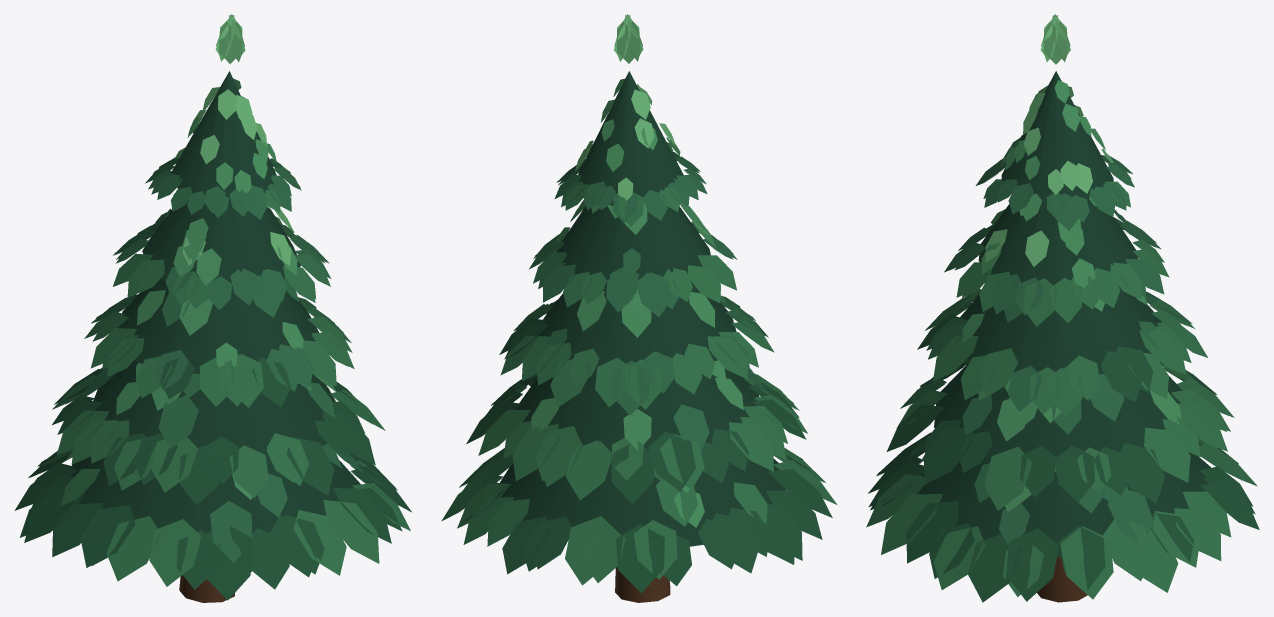
File: TreePine.glb
3 views of the same model, side by side, from view 1: azimuth 30°, elevation 25°; view 2: azimuth 150°, elevation 25°; view 3: azimuth 270°, elevation 25° (orthographic). The views are drawn at different scales.
Parts seen in each view (by area): view 1: Sway; view 2: Sway; view 3: Sway.
Part boxes in pixels (x1,y1,x2,y2): Sway: (14,14,411,602); Sway: (441,14,837,602); Sway: (866,14,1259,602).
Size of the model in its own units: 8.58 by 13.69 by 8.35.
1 material, 1 textured.
